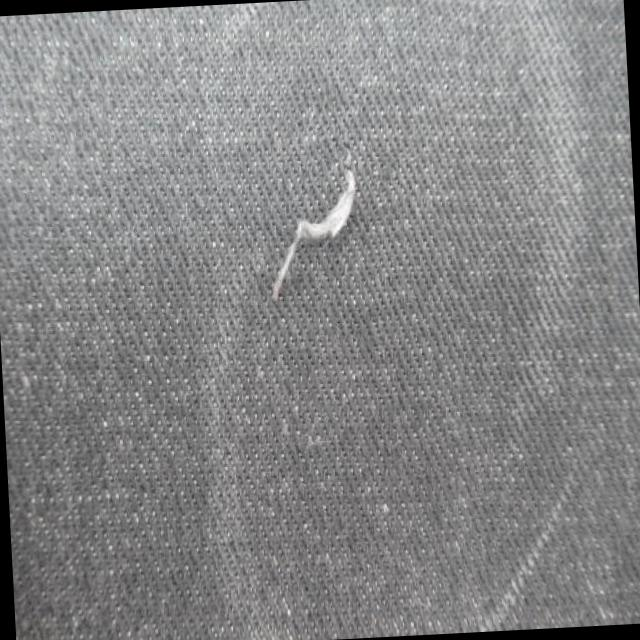Stain: (484, 0, 599, 428), (189, 239, 306, 640), (463, 457, 596, 632)
Thread: (260, 164, 365, 306)
